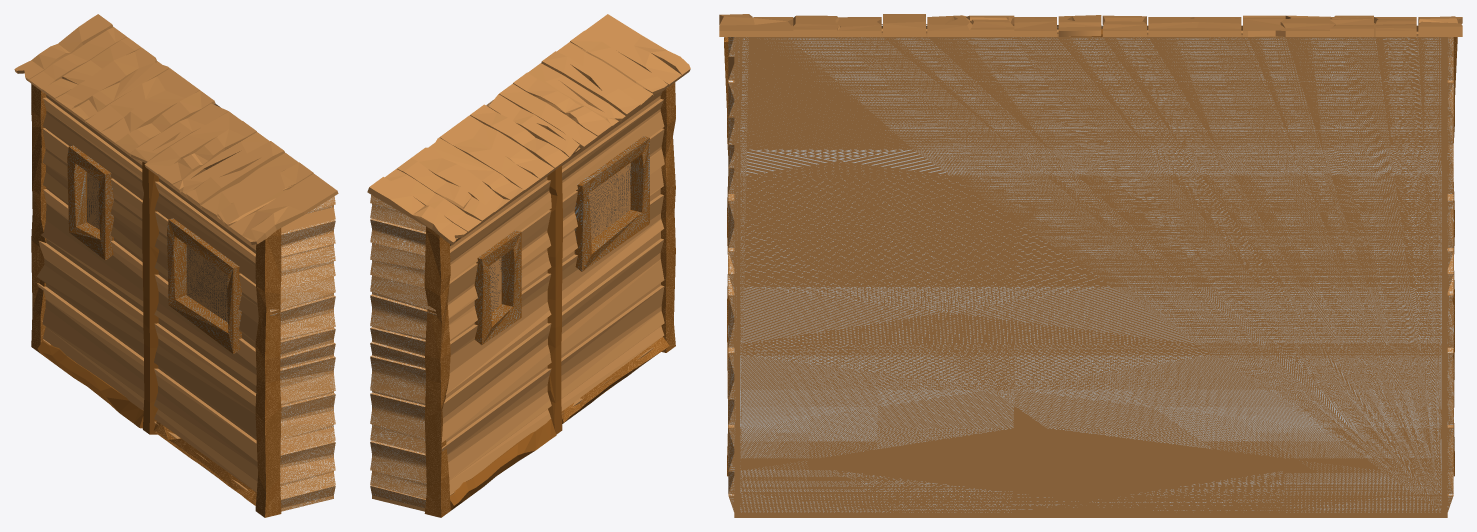
Rendered from Extension4.fbx.
3 views of the same model, side by side, from view 1: azimuth 30°, elevation 25°; view 2: azimuth 150°, elevation 25°; view 3: azimuth 270°, elevation 25° (orthographic). The views are drawn at different scales.
Visible parts, largest first — view 1: Group5, Group6, Group3, Group8, Group13, Group10, Group12, Group7, Group11, Group9; view 2: Group5, Group6, Group4, Group7, Group13, Group12, Group10, Group8, Group11, Group9; view 3: Group5, Group6, Group4, Group3, Group8, Group7.
Boxes of the visible parts, bbox=[...] form: Group5: bbox=[37, 95, 333, 511]; Group6: bbox=[14, 14, 338, 244]; Group3: bbox=[270, 196, 335, 508]; Group8: bbox=[255, 228, 281, 517]; Group13: bbox=[167, 218, 241, 353]; Group10: bbox=[142, 162, 158, 434]; Group12: bbox=[67, 145, 113, 260]; Group7: bbox=[31, 84, 46, 353]; Group11: bbox=[37, 340, 143, 428]; Group9: bbox=[153, 421, 256, 505]; Group5: bbox=[372, 91, 664, 511]; Group6: bbox=[367, 14, 690, 245]; Group4: bbox=[370, 195, 436, 507]; Group7: bbox=[424, 226, 450, 517]; Group13: bbox=[574, 136, 649, 271]; Group12: bbox=[474, 230, 521, 344]; Group10: bbox=[547, 165, 562, 434]; Group8: bbox=[660, 82, 675, 352]; Group11: bbox=[450, 419, 556, 510]; Group9: bbox=[561, 337, 669, 423]; Group5: bbox=[734, 24, 1447, 517]; Group6: bbox=[719, 14, 1462, 36]; Group4: bbox=[1442, 37, 1453, 512]; Group3: bbox=[728, 37, 739, 512]; Group8: bbox=[724, 37, 729, 476]; Group7: bbox=[1452, 37, 1457, 476].
Bounding box in the file's own units: 527 × 1833 × 2520.
